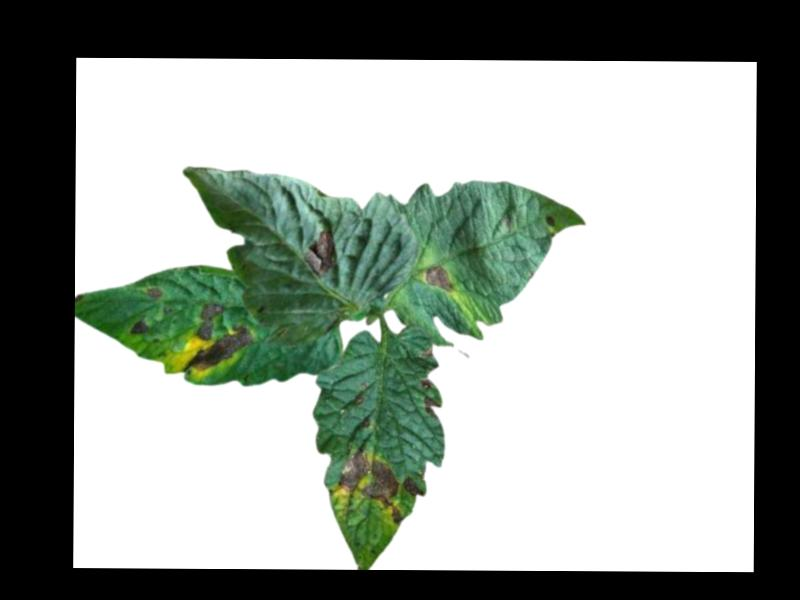Early_blight: (337, 449, 405, 525), (183, 300, 251, 372), (303, 227, 337, 279), (419, 377, 442, 417), (424, 264, 455, 291), (401, 475, 425, 499), (129, 319, 152, 336), (146, 286, 163, 298), (546, 212, 557, 227)
